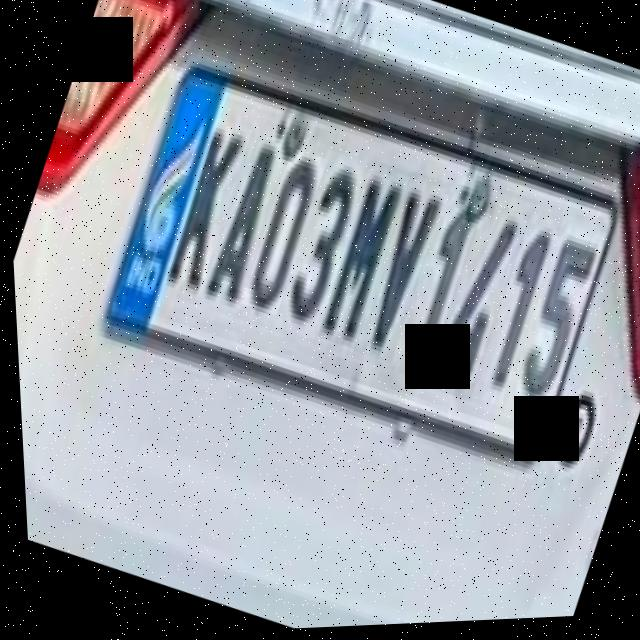0: (232, 150, 331, 319)
1: (386, 193, 491, 387), (463, 212, 568, 401)
3: (265, 154, 376, 344)
4: (412, 203, 536, 408)
5: (494, 226, 610, 423)
A: (188, 134, 297, 314)
K: (151, 113, 258, 298)
M: (306, 162, 417, 354)
V: (343, 174, 456, 369)
